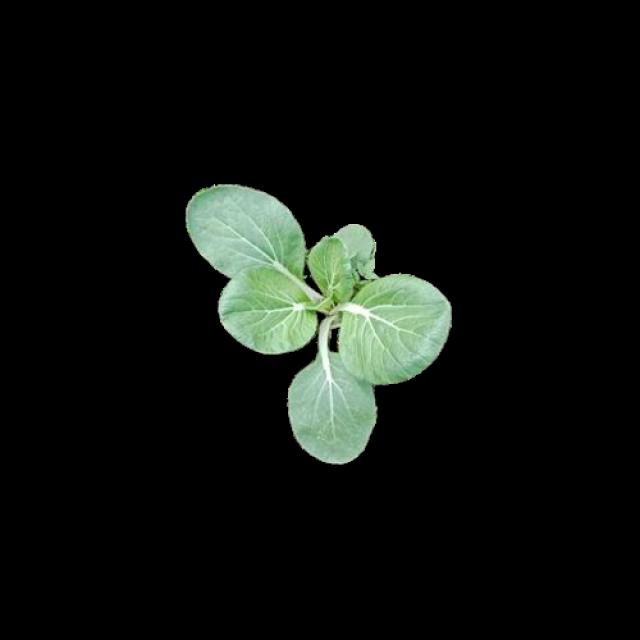not-mature: (184, 183, 450, 463)
unhealthy: (310, 227, 378, 304)
